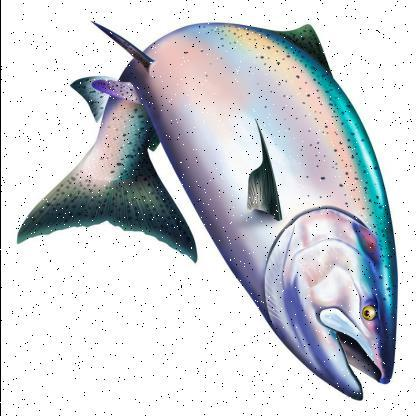fish: (16, 20, 400, 402)
